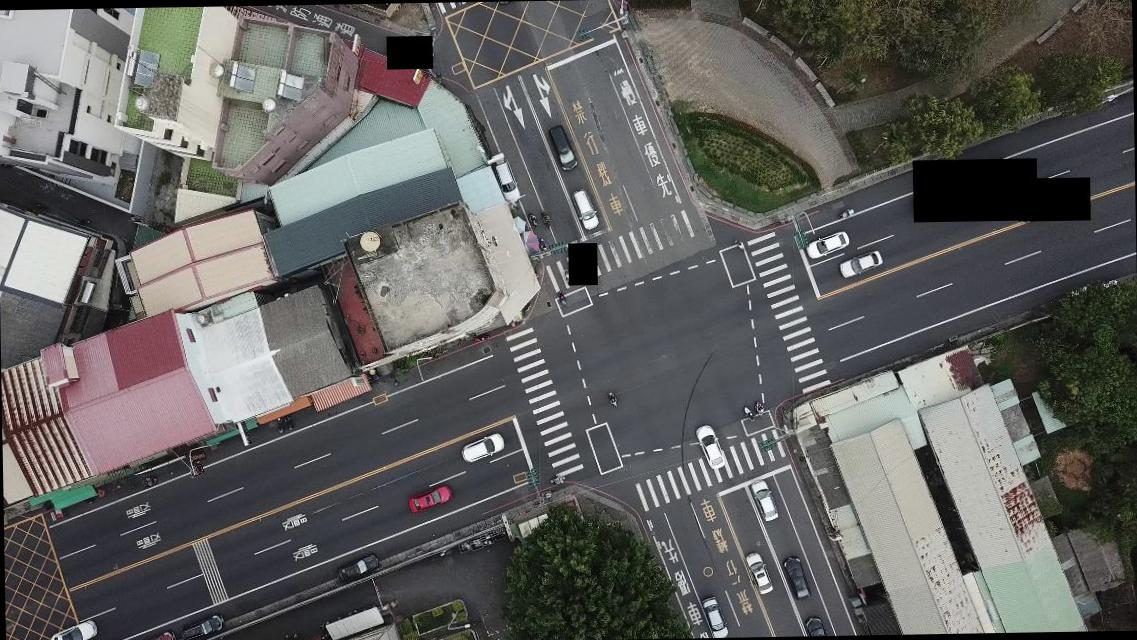vehicle: (694, 423, 726, 470), (458, 432, 505, 464), (489, 153, 521, 200), (405, 484, 452, 514), (546, 123, 576, 170), (750, 478, 780, 524), (838, 250, 884, 280), (781, 553, 810, 600), (745, 552, 774, 596), (336, 555, 380, 584), (806, 230, 848, 260), (178, 613, 226, 639), (701, 596, 728, 638), (572, 188, 599, 230), (48, 619, 99, 639), (802, 614, 828, 636)
